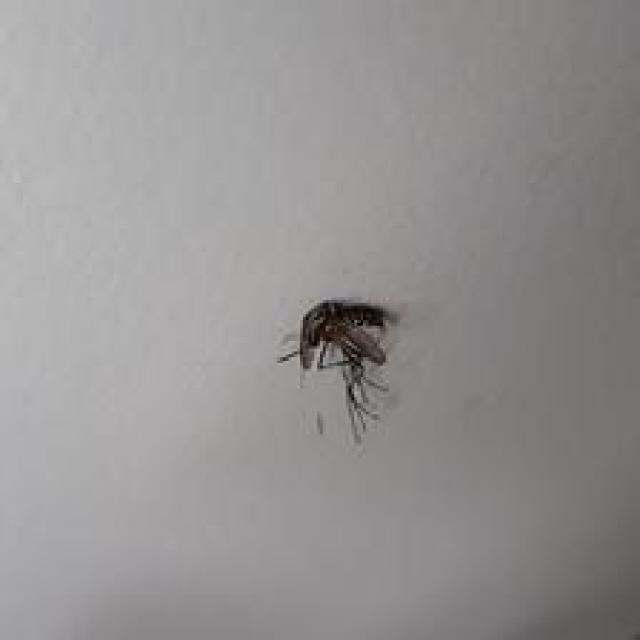Aedes albopictus: (276, 296, 398, 444)
